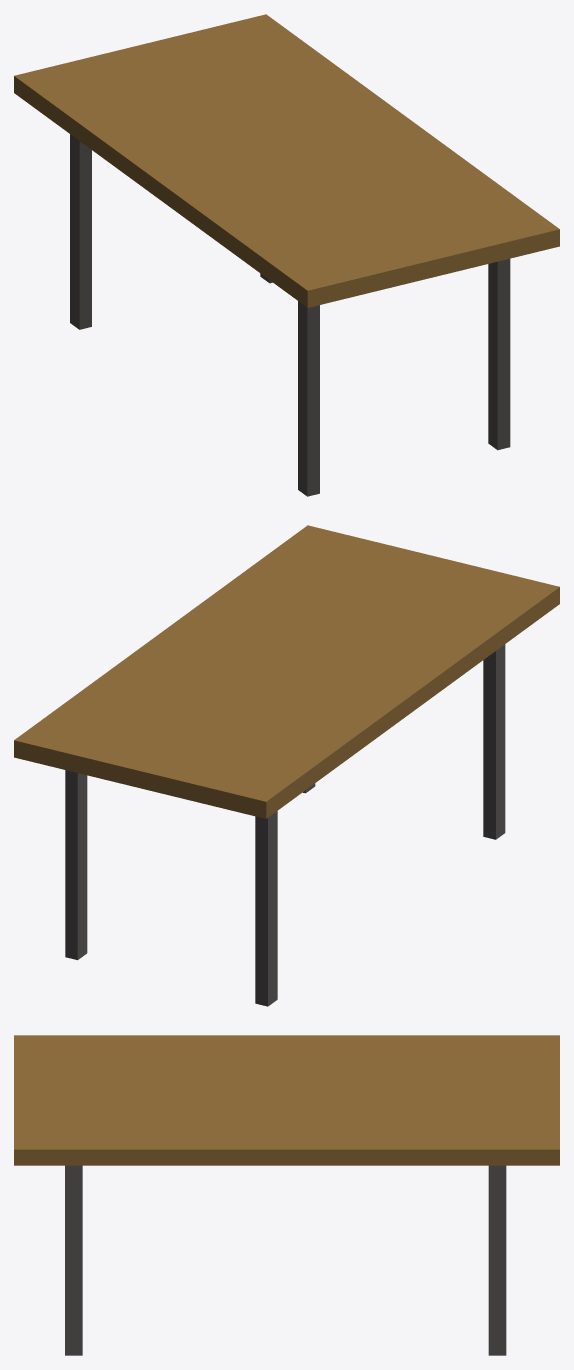
Rendered from Desk6.FBX.
The picture shows the model from 3 angles, top to bottom: view 1: azimuth 30°, elevation 25°; view 2: azimuth 150°, elevation 25°; view 3: azimuth 270°, elevation 25°; orthographic projection. The views are drawn at different scales.
Parts seen in each view (by area): view 1: SM_Desk_06; view 2: SM_Desk_06; view 3: SM_Desk_06.
Part boxes in pixels (left/top/right/bottom): SM_Desk_06: left=14, top=14, right=559, bottom=496; SM_Desk_06: left=14, top=525, right=559, bottom=1006; SM_Desk_06: left=14, top=1035, right=559, bottom=1355.
Bounding box in the file's own units: 70.52 × 62.14 × 142.
